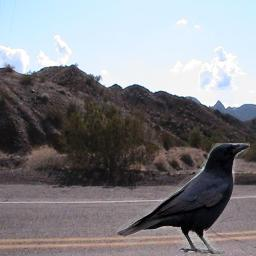Crow: (116, 143, 250, 254)
